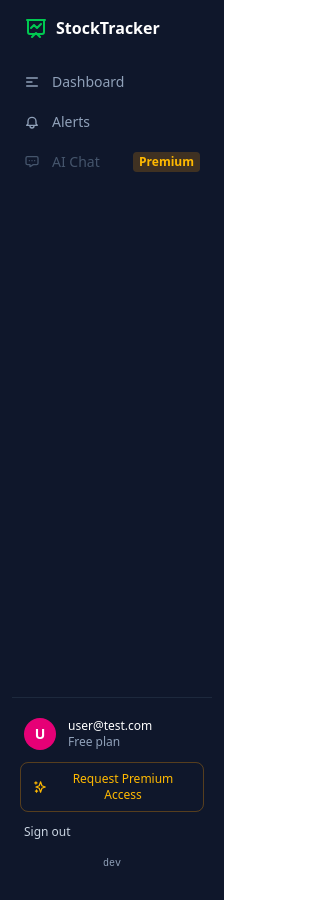
Test case: Sidebar › premium request › disables Confirm button while request is pending
Click the button "Request Premium Access": (112, 787) [20,762,204,812]
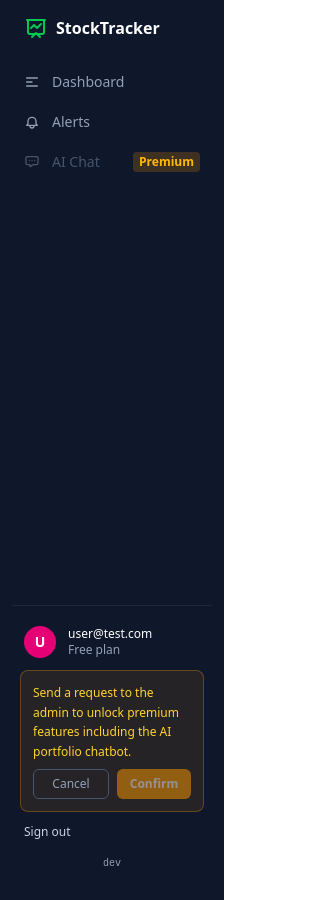
Expected: the button "Confirm" is disabled, [117,769,191,799]
